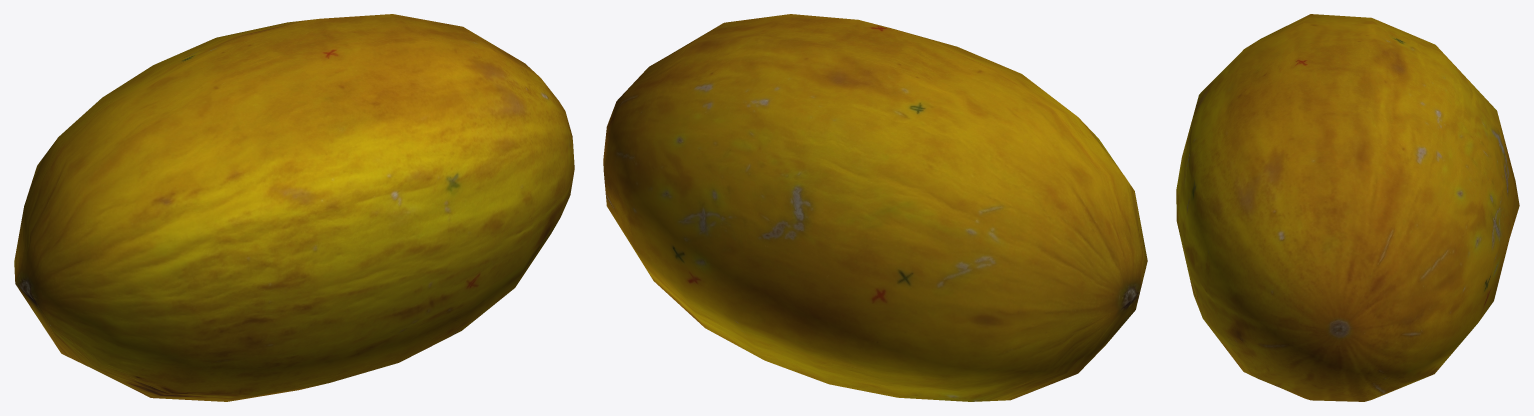
File: A41_Canary_Melon_low.fbx
3 renders of one model, left to right at view 1: azimuth 30°, elevation 25°; view 2: azimuth 150°, elevation 25°; view 3: azimuth 270°, elevation 25°, orthographic. The views are drawn at different scales.
Parts seen in each view (by area): view 1: A41_Canary_Melon_low; view 2: A41_Canary_Melon_low; view 3: A41_Canary_Melon_low.
Part boxes in pixels (left/top/right/bottom): A41_Canary_Melon_low: left=14, top=14, right=574, bottom=401; A41_Canary_Melon_low: left=603, top=14, right=1147, bottom=401; A41_Canary_Melon_low: left=1176, top=14, right=1519, bottom=401.
Size of the model in its own units: 20.02 by 11.95 by 11.92.
1 material, 1 textured.
